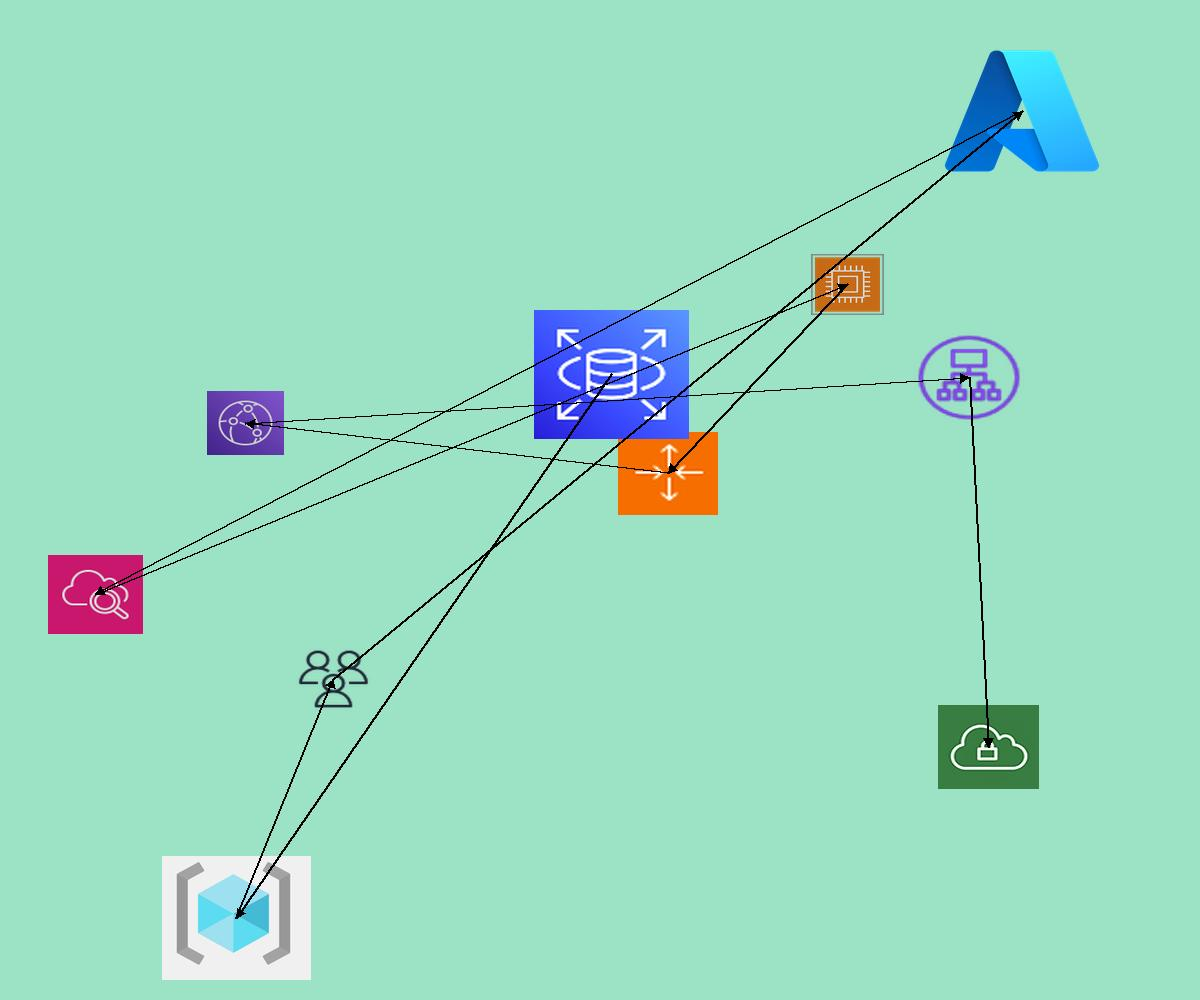AWS-Category_Compute: (811, 254, 884, 315)
AWS-CloudFront: (207, 391, 284, 455)
AWS-CloudWatch: (48, 555, 143, 634)
AWS-Private_vpc: (938, 705, 1039, 789)
AWS-RDS: (534, 310, 689, 439)
AWS-Res_Elastic-Load-Balancing_Application-Load-Balancer: (914, 332, 1024, 423)
AWS-Res_Users: (296, 648, 371, 710)
AWS-Scaling-group: (618, 432, 718, 515)
Azure_resource_group: (162, 856, 311, 980)
Azure_services: (938, 41, 1106, 181)
